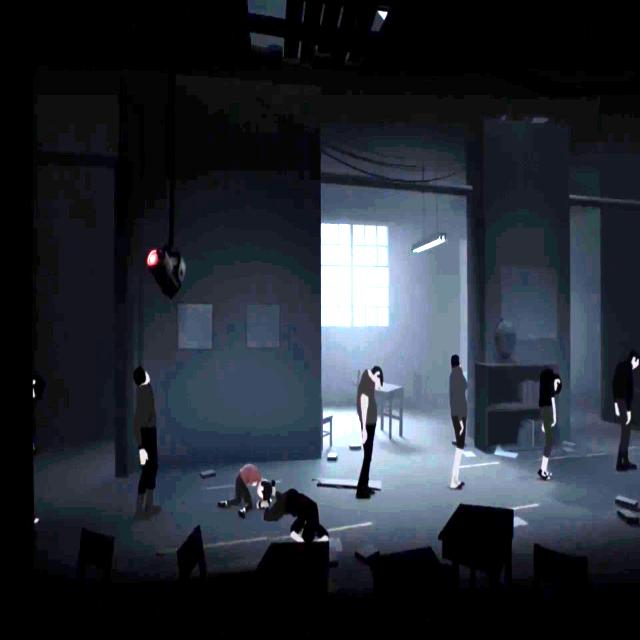boy: (218, 463, 272, 514)
zombie: (255, 488, 328, 546), (132, 364, 159, 517), (358, 366, 385, 500), (612, 350, 636, 470), (536, 371, 561, 481), (449, 354, 468, 491)
